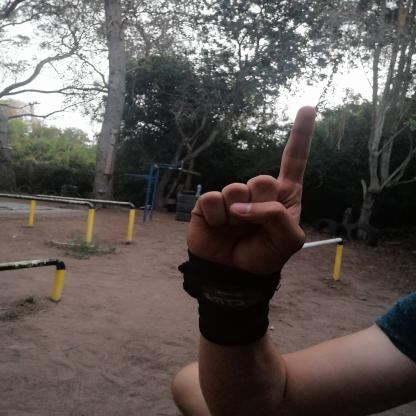BAA: (166, 91, 343, 291)
